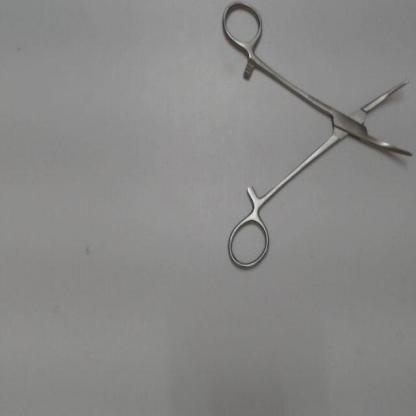Crile Artery Forceps: (218, 0, 416, 273)
